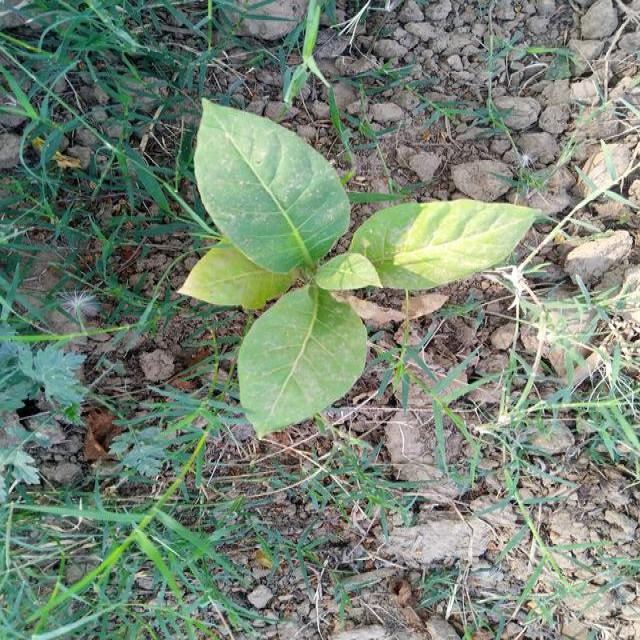crop: (183, 99, 540, 435)
